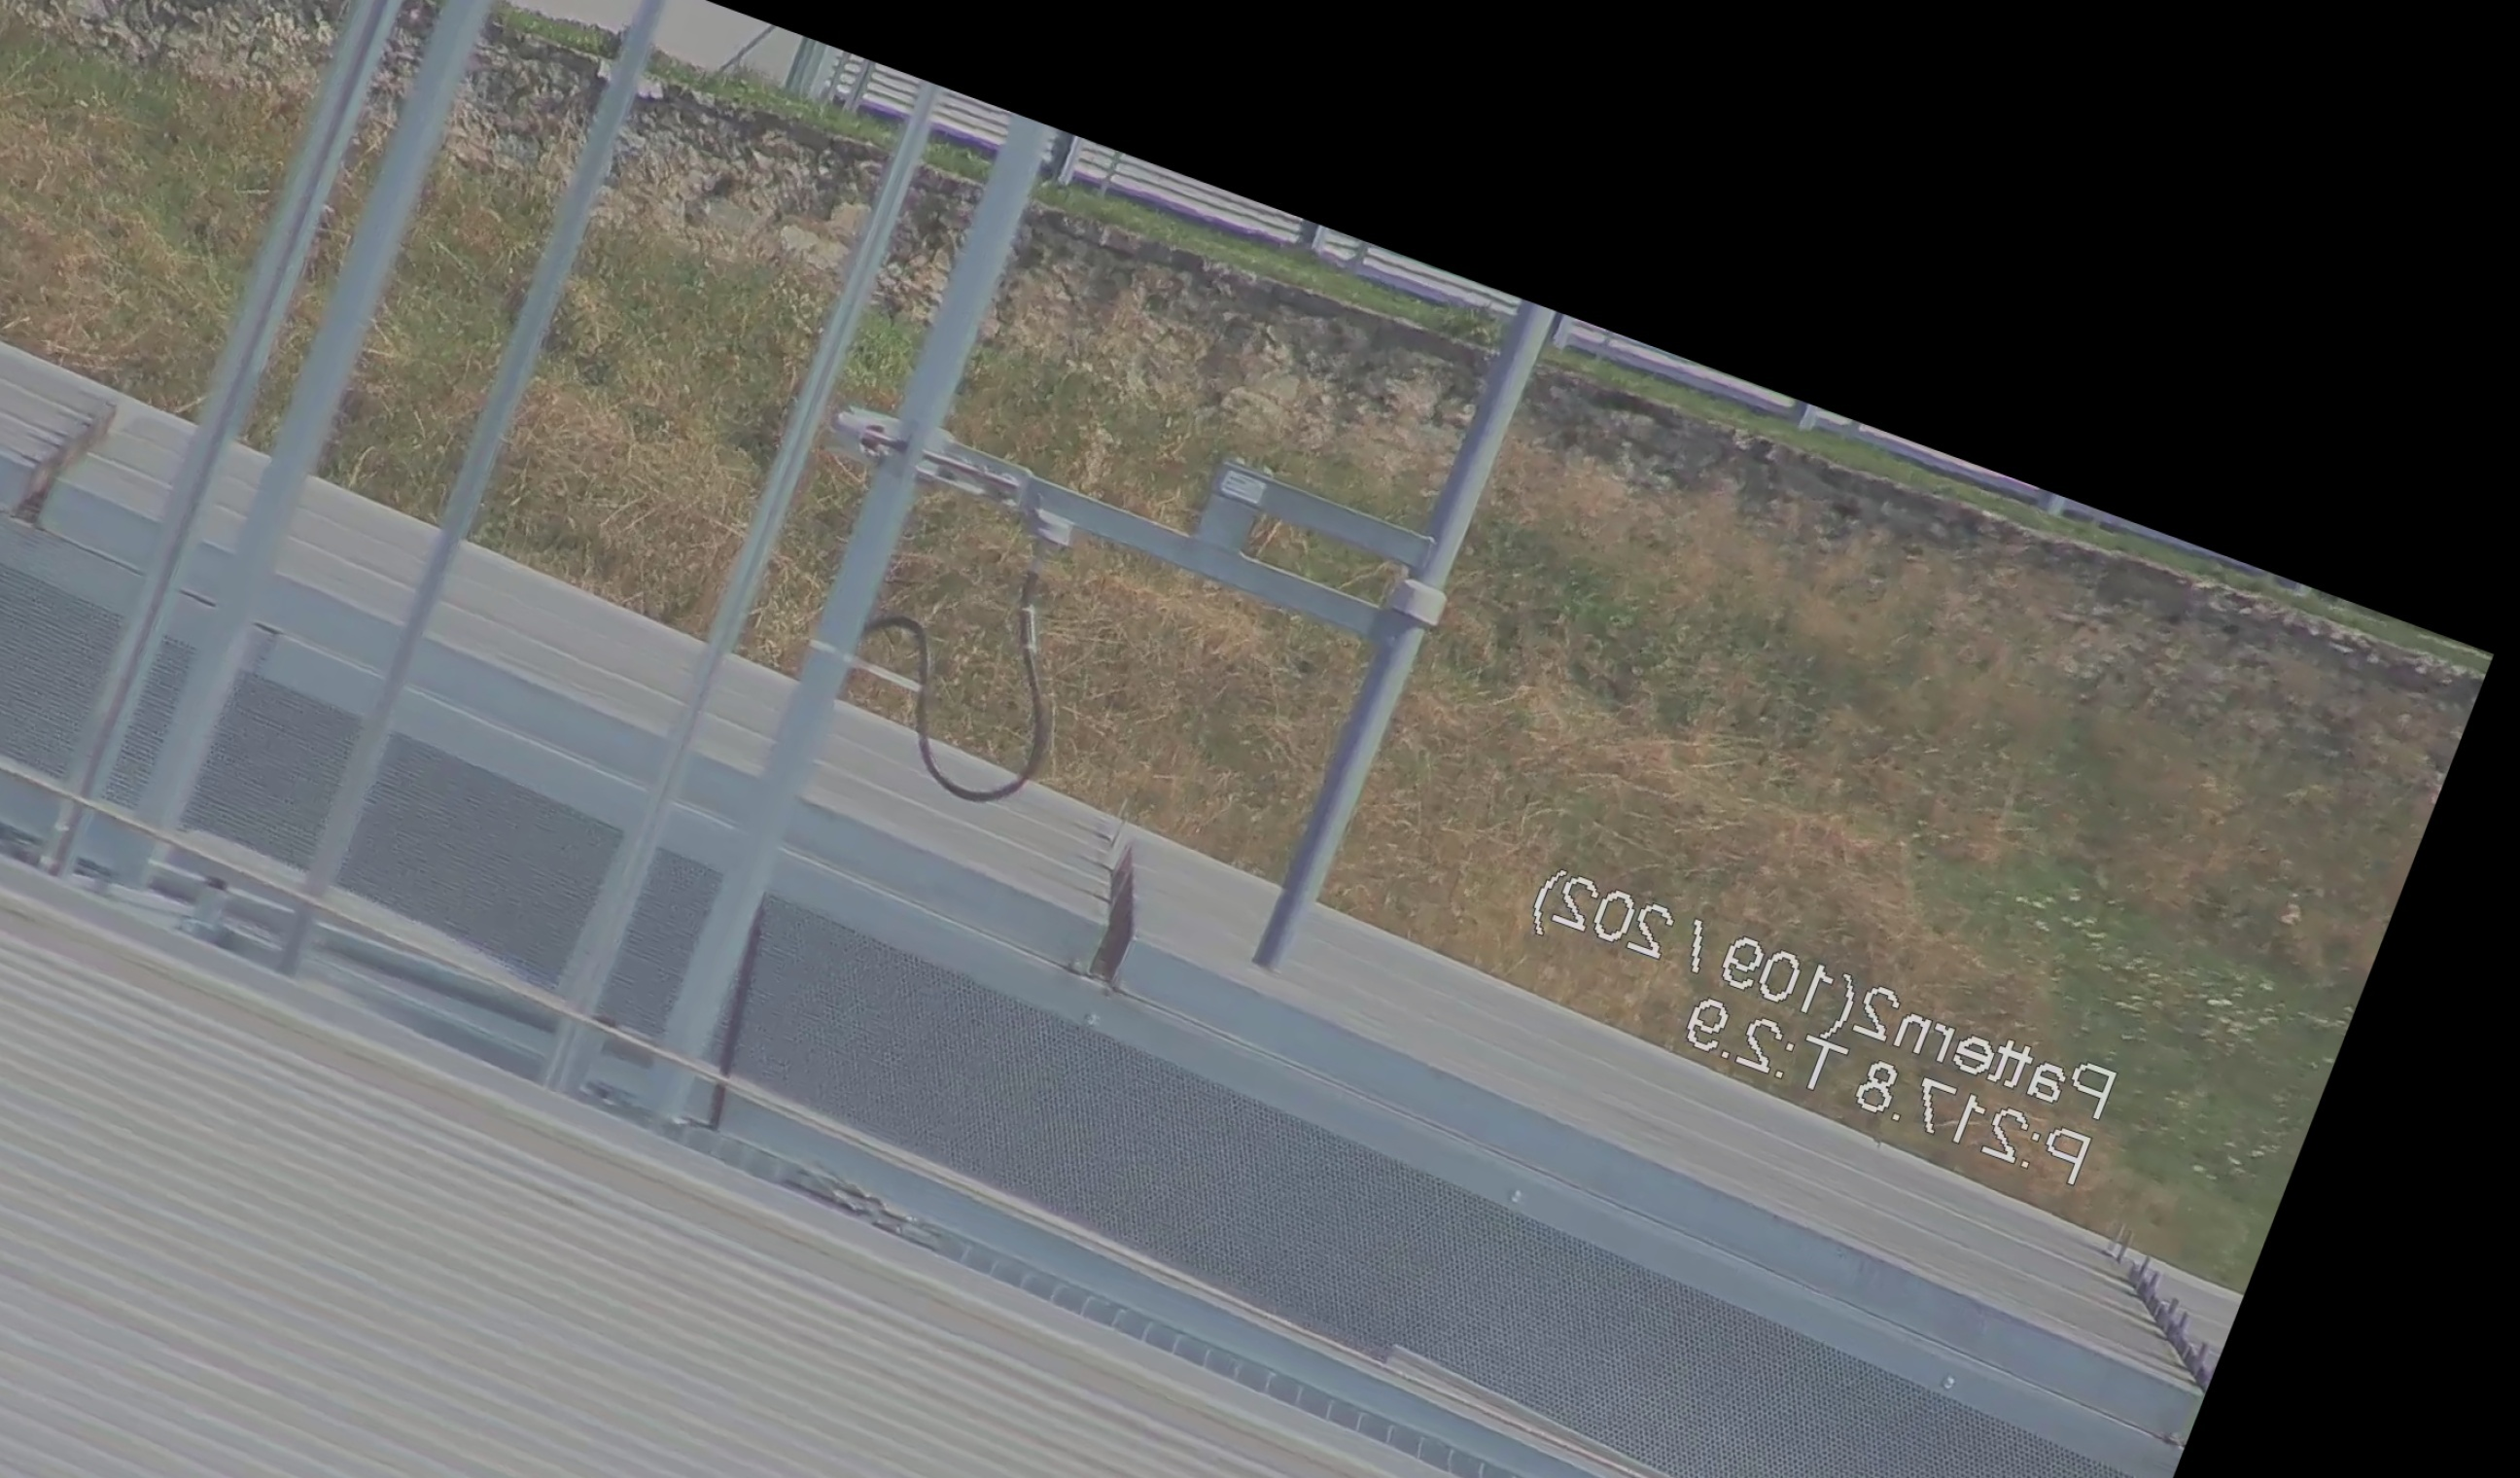Other: (1055, 820, 1194, 996)
